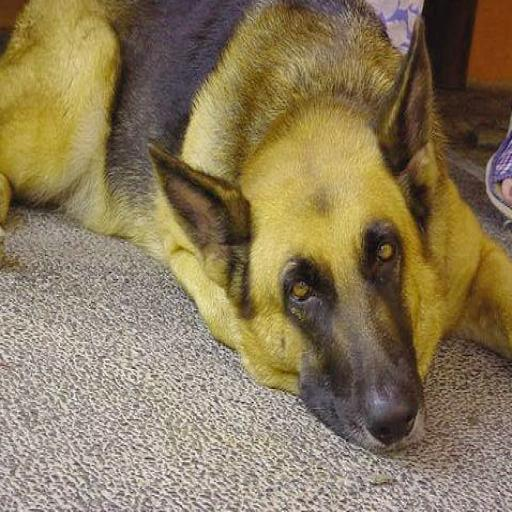dog_face: (163, 41, 439, 447)
